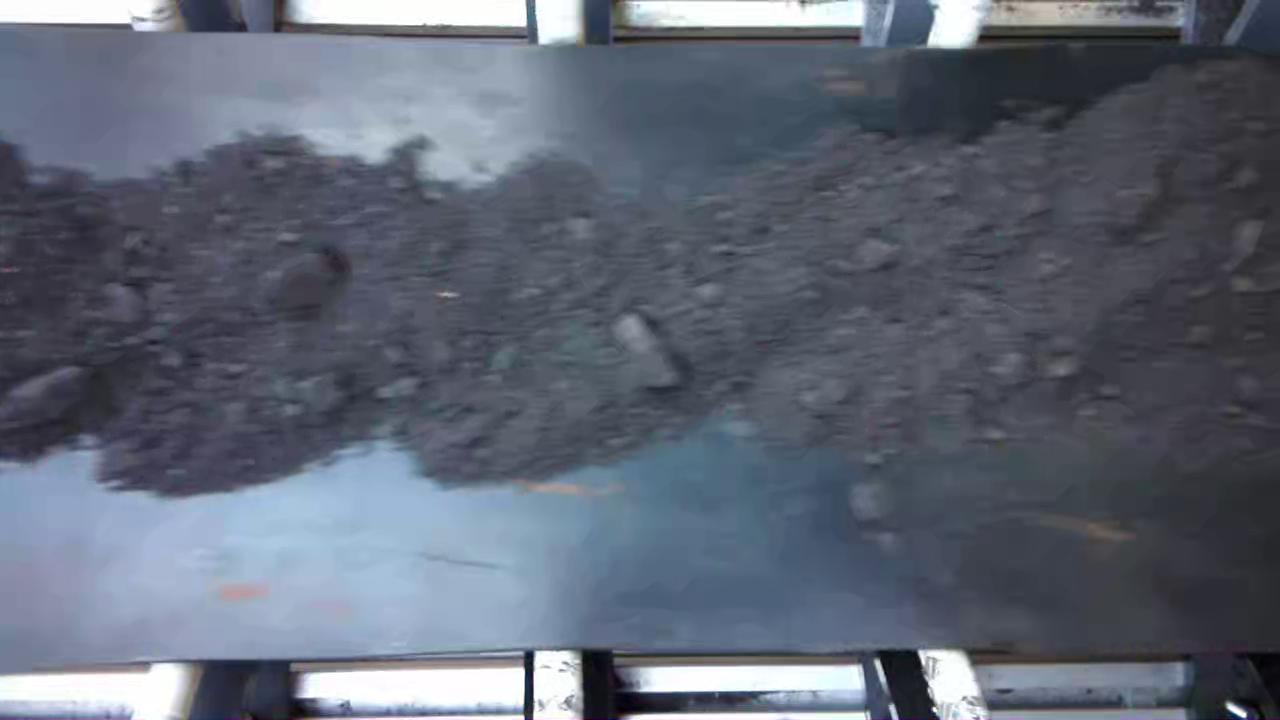conveyor: (1, 53, 1280, 647)
